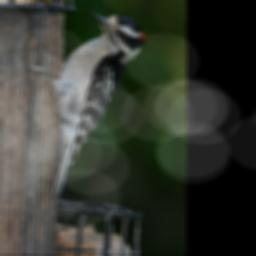Woodpecker: (22, 9, 147, 209)
